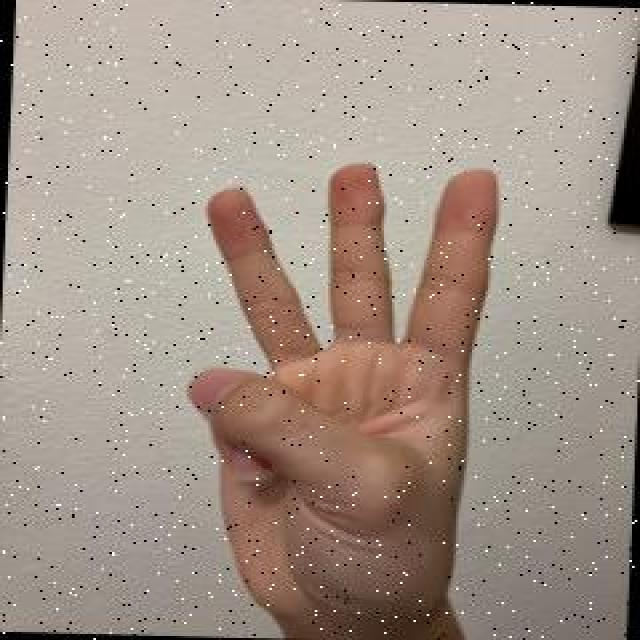W: (167, 154, 508, 632)
